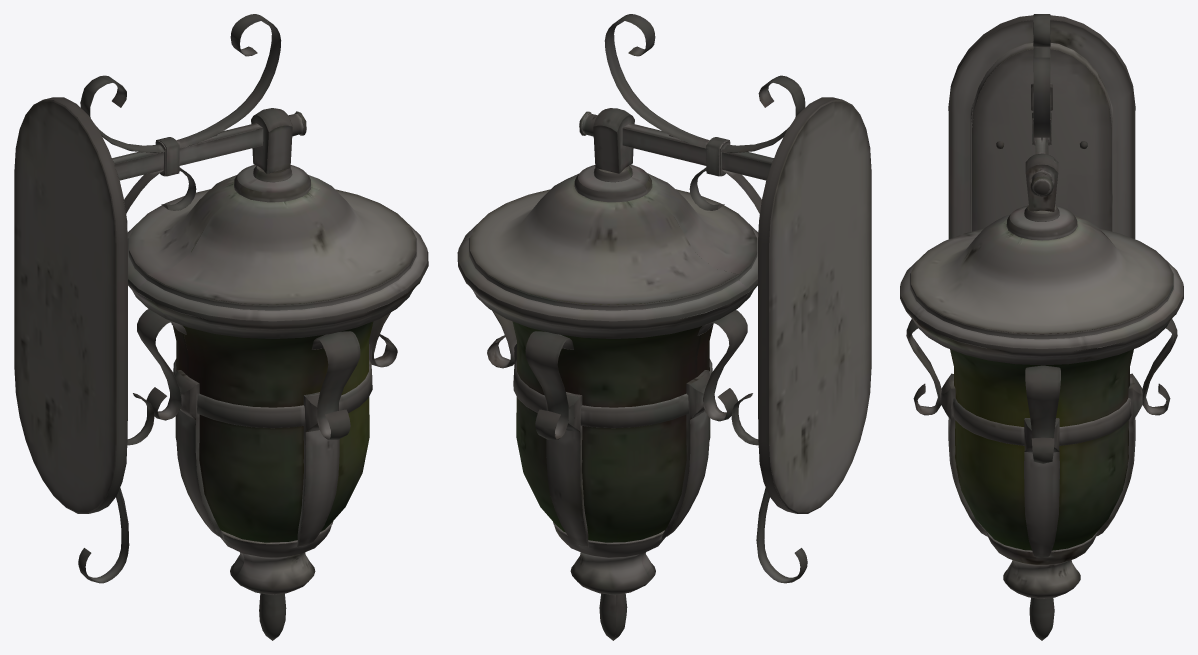
File: luz_aplique_retro.glb
3 views of the same model, side by side, from view 1: azimuth 30°, elevation 25°; view 2: azimuth 150°, elevation 25°; view 3: azimuth 270°, elevation 25° (orthographic). The views are drawn at different scales.
Visible parts, largest first — view 1: defaultMaterial; view 2: defaultMaterial; view 3: defaultMaterial.
Part boxes in pixels (<box>): defaultMaterial: <box>14,14,428,640</box>; defaultMaterial: <box>457,14,871,640</box>; defaultMaterial: <box>900,14,1183,640</box>.
Size of the model in its own units: 0.2172 by 0.3798 by 0.1704.
Materials: 2 (2 with a texture image).
